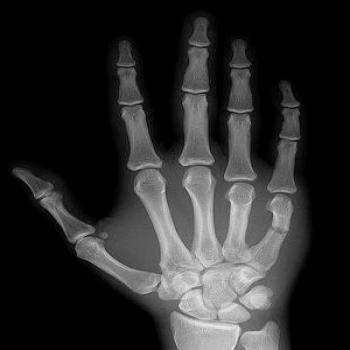Fracture: (261, 219, 298, 240)
